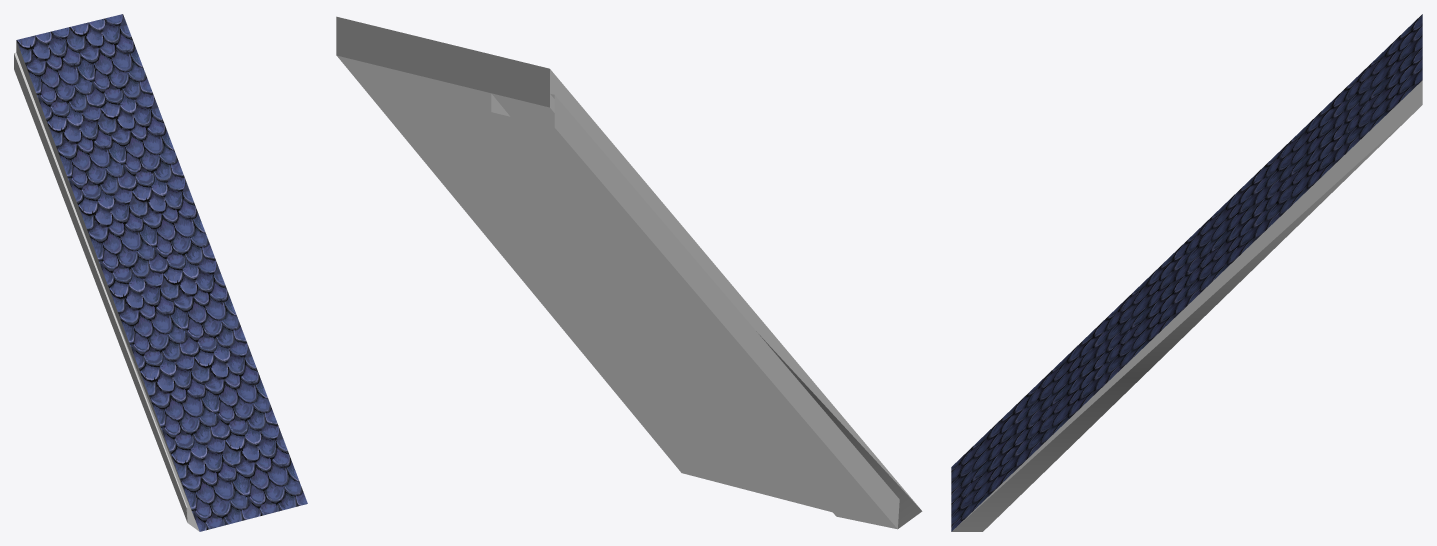
The model's file is e_greathall_roof_mid.fbx.
3 views of the same model, side by side, from view 1: azimuth 30°, elevation 25°; view 2: azimuth 150°, elevation 25°; view 3: azimuth 270°, elevation 25° (orthographic). The views are drawn at different scales.
Parts seen in each view (by area): view 1: e_greathall_roof_mid; view 2: e_greathall_roof_mid; view 3: e_greathall_roof_mid.
Part boxes in pixels (x1,y1,x2,y2): e_greathall_roof_mid: [14, 14, 307, 531]; e_greathall_roof_mid: [336, 16, 922, 529]; e_greathall_roof_mid: [951, 14, 1422, 531].
Size of the model in its own units: 2.55 by 8 by 7.5.
